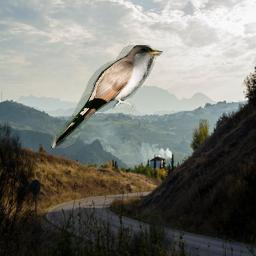Cuckoo: (51, 45, 163, 148)
